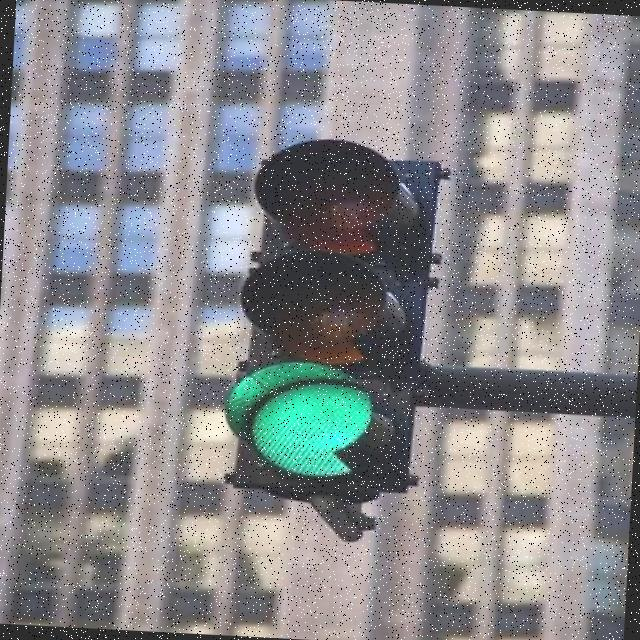Zielone swiatlo: (237, 142, 426, 488)
